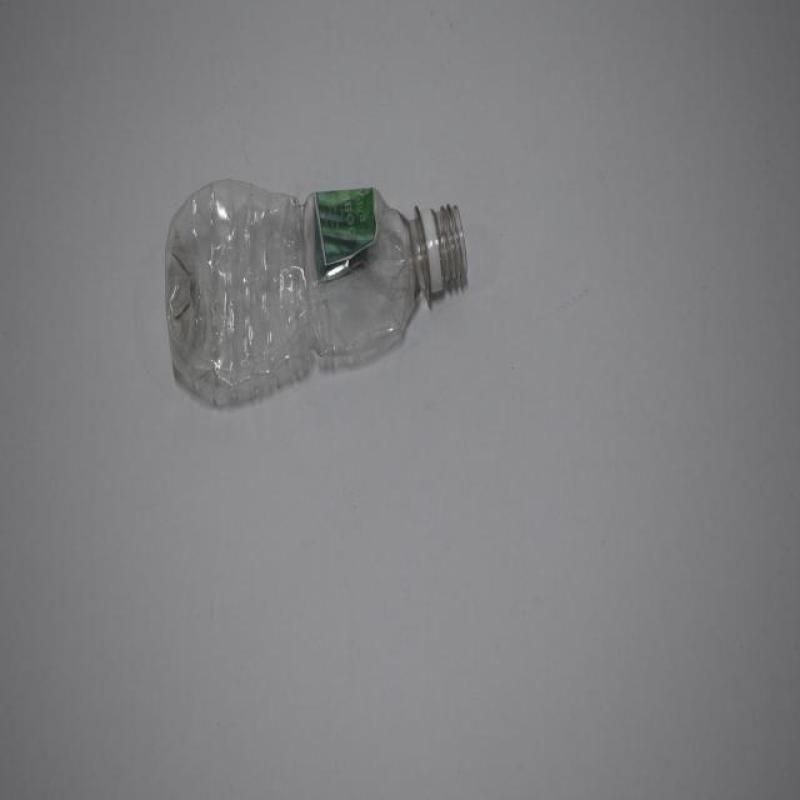botella: (163, 176, 469, 412)
